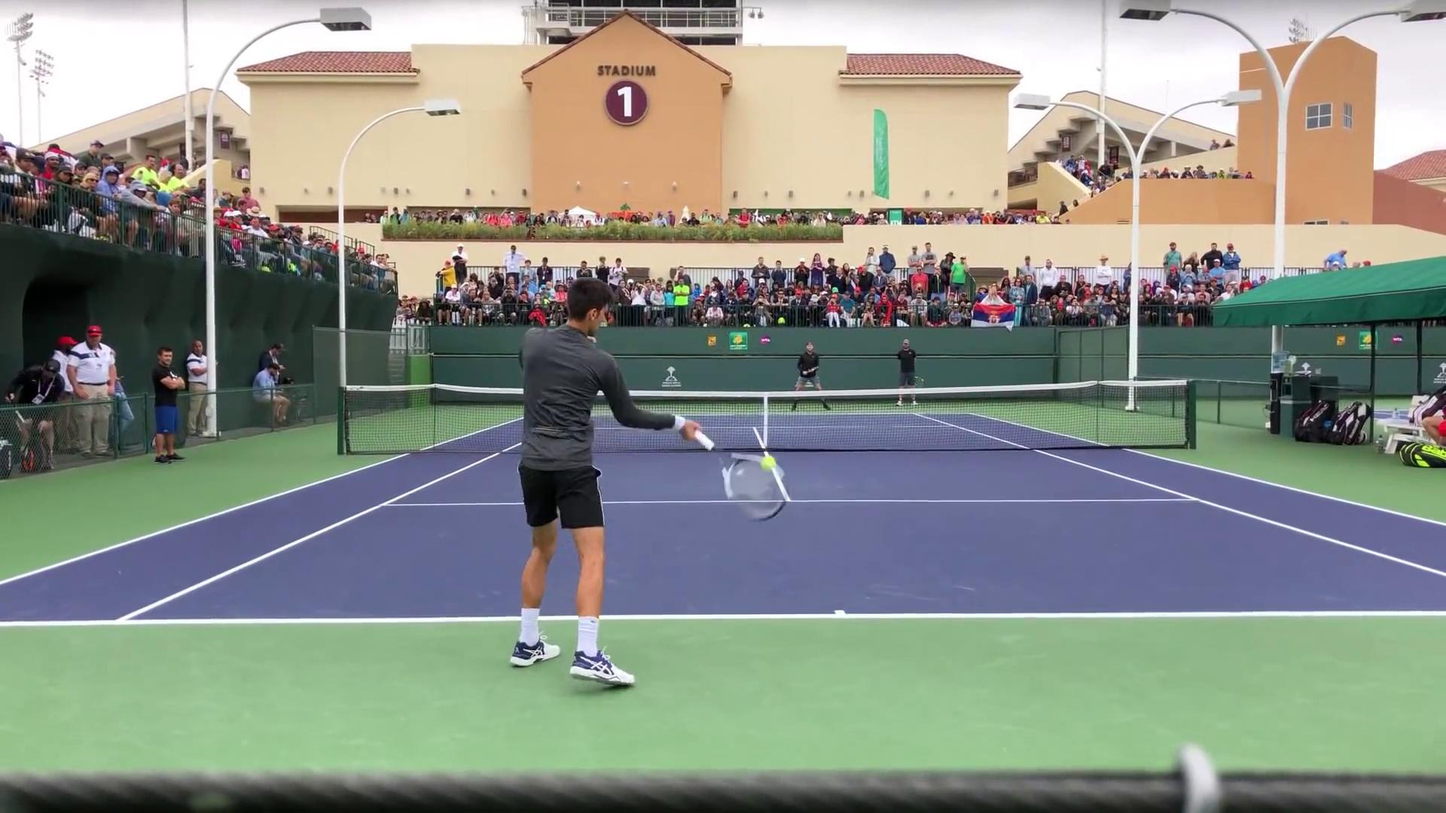ball: (760, 454, 776, 472)
